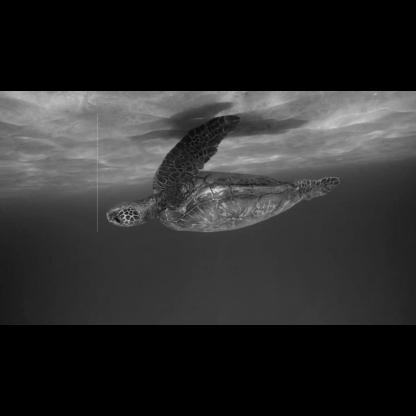turtle: (97, 113, 359, 230)
